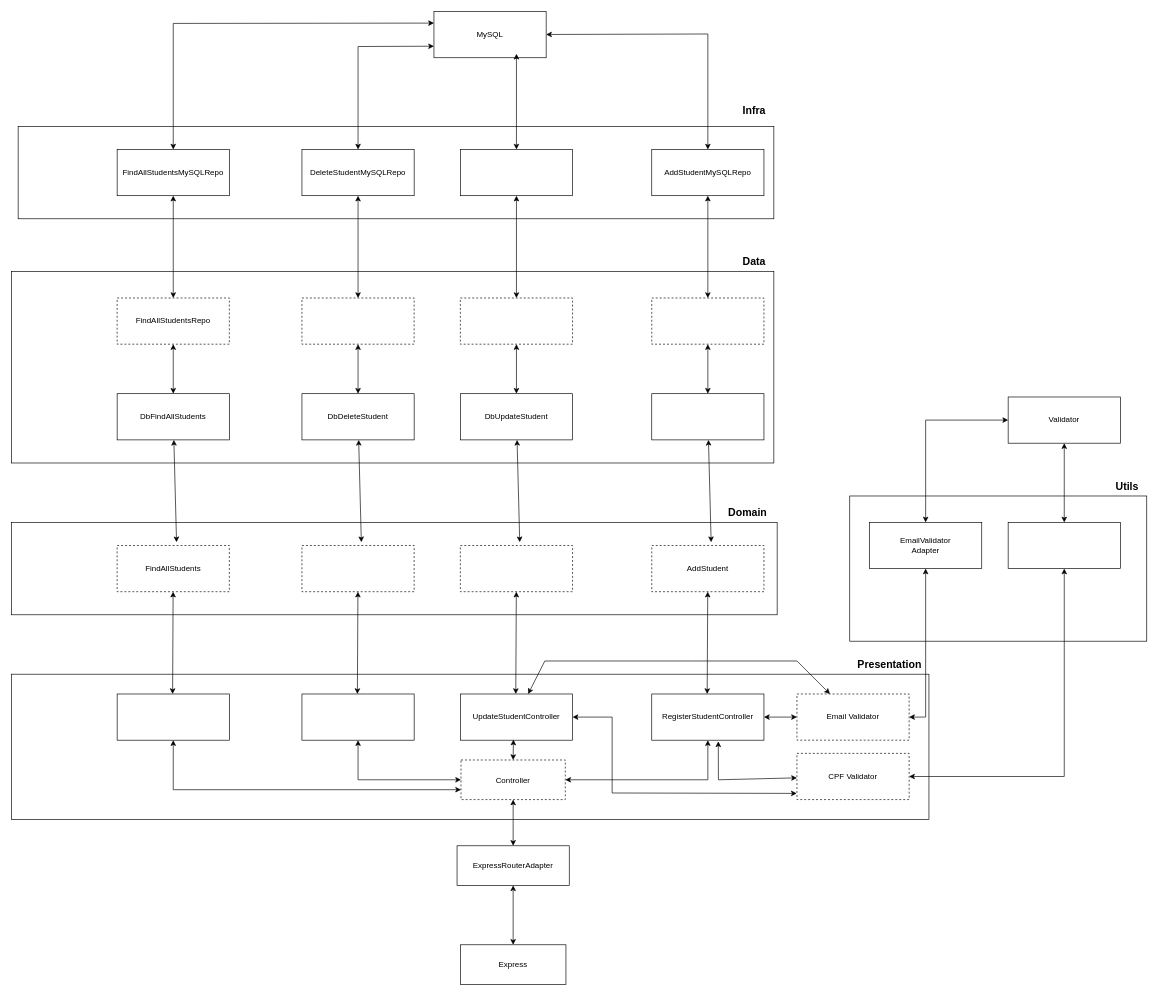
The diagram is 1158 pixels wide and 996 high, and some of its shapes have lost their labels. Here are the shapes that lost their labels. From the top down, the centre of each, then its label:
At point 516,172: "UpdateStudentMySQLRepo".
At point 357,320: "DeleteStudentRepo".
At point 516,320: "UpdateStudentRepo".
At point 707,320: "AddStudentRepo".
At point 707,416: "DbAddStudent".
At point 1063,545: "CPFValidator Adapter".
At point 357,568: "DeleteStudent".
At point 516,568: "UpdateStudent".
At point 172,716: "FindAllStudentsController".
At point 357,716: "DeleteStudentController".
